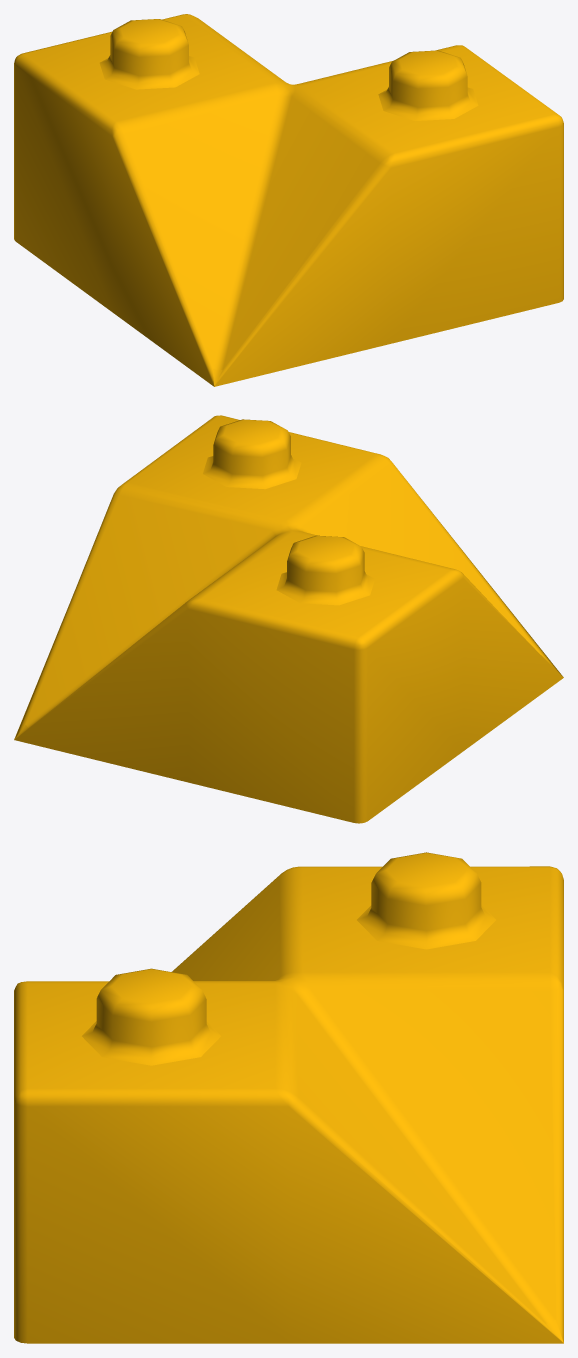
Rendered from Lowered_Two_Corner_Opposite_Half.fbx.
3 views of the same model, one above another, from view 1: azimuth 30°, elevation 25°; view 2: azimuth 150°, elevation 25°; view 3: azimuth 270°, elevation 25° (orthographic). The views are drawn at different scales.
Visible parts, largest first — view 1: Lowered_Two_Corner_Opposite_Half, Knobs.026; view 2: Lowered_Two_Corner_Opposite_Half, Knobs.026; view 3: Lowered_Two_Corner_Opposite_Half, Knobs.026.
Boxes of the visible parts, bbox=[...] form: Lowered_Two_Corner_Opposite_Half: bbox=[14, 14, 563, 386]; Knobs.026: bbox=[99, 19, 478, 120]; Lowered_Two_Corner_Opposite_Half: bbox=[14, 415, 563, 823]; Knobs.026: bbox=[203, 419, 374, 605]; Lowered_Two_Corner_Opposite_Half: bbox=[14, 866, 563, 1343]; Knobs.026: bbox=[82, 852, 495, 1065].
Size of the model in its own units: 1 by 0.6 by 1.
